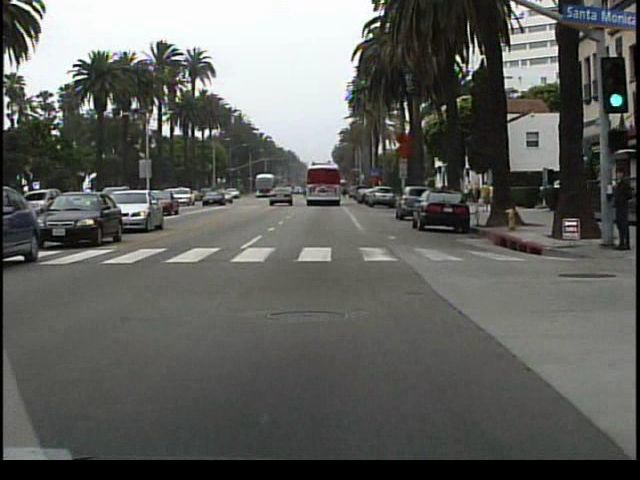person: (604, 157, 632, 250)
